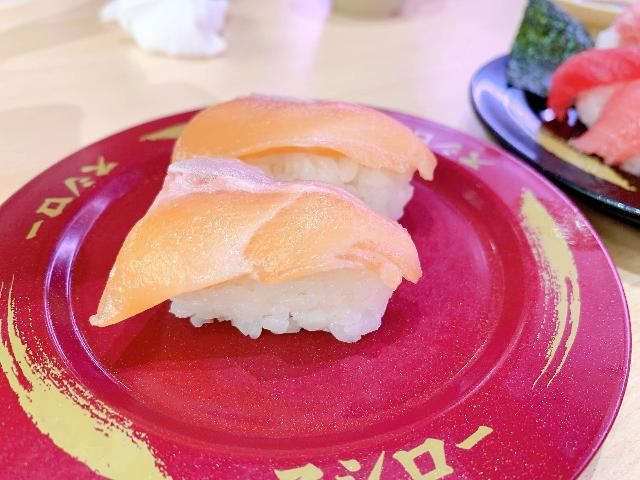janback: (438, 32, 640, 219)
janred: (26, 74, 567, 459)
